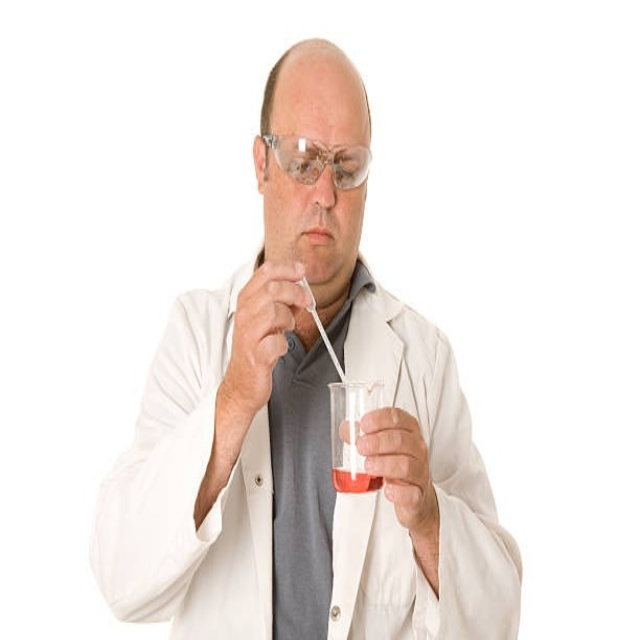Gafas: (262, 135, 373, 188)
Sin_guantes: (346, 404, 434, 534), (235, 248, 312, 389)
Sin_mascara: (291, 212, 346, 268)
